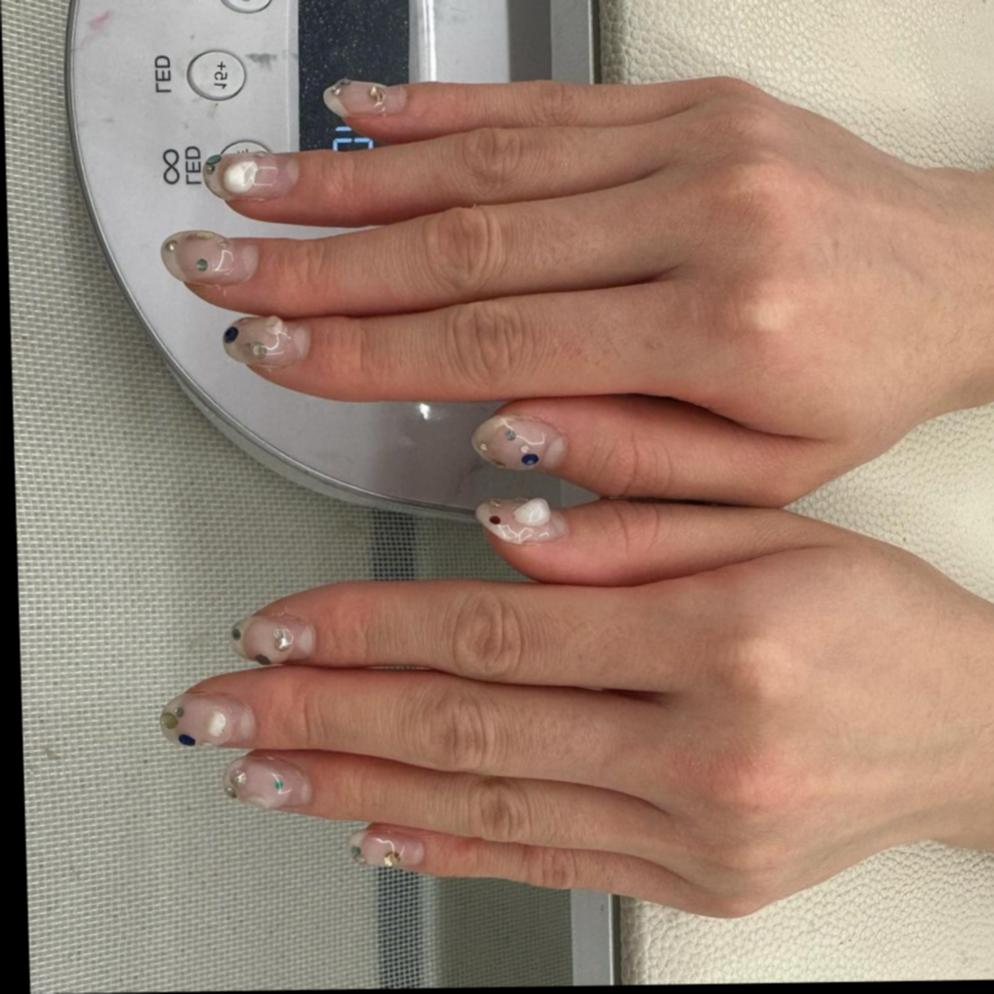nail: (160, 230, 262, 289), (469, 413, 566, 474), (160, 692, 256, 750), (223, 754, 313, 813), (203, 150, 300, 204), (221, 315, 313, 371), (229, 612, 317, 668), (473, 497, 567, 546), (321, 78, 408, 120), (350, 826, 426, 873)
